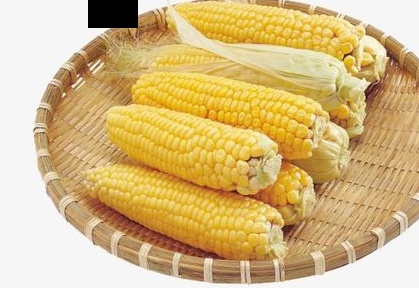corn: (83, 162, 286, 261), (130, 72, 331, 160), (102, 102, 284, 198), (170, 1, 363, 71)
